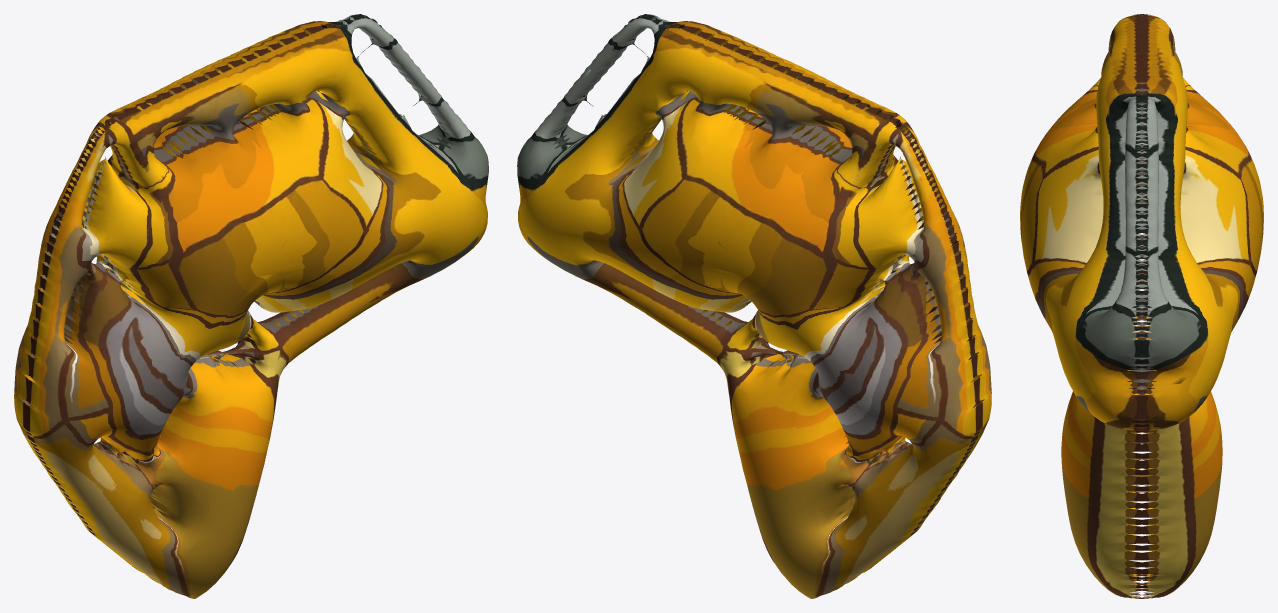
Rendered from access_hatch.glb.
3 views of the same model, side by side, from view 1: azimuth 30°, elevation 25°; view 2: azimuth 150°, elevation 25°; view 3: azimuth 270°, elevation 25° (orthographic). The views are drawn at different scales.
Visible parts, largest first — view 1: access_hatch; view 2: access_hatch; view 3: access_hatch.
Part boxes in pixels (box(x1,y1,x2,y2)): access_hatch: box(14, 14, 488, 598); access_hatch: box(517, 14, 991, 598); access_hatch: box(1020, 14, 1263, 598).
Size of the model in its own units: 0.9872 by 1.11 by 0.4149.
Materials: 1 (1 with a texture image).
